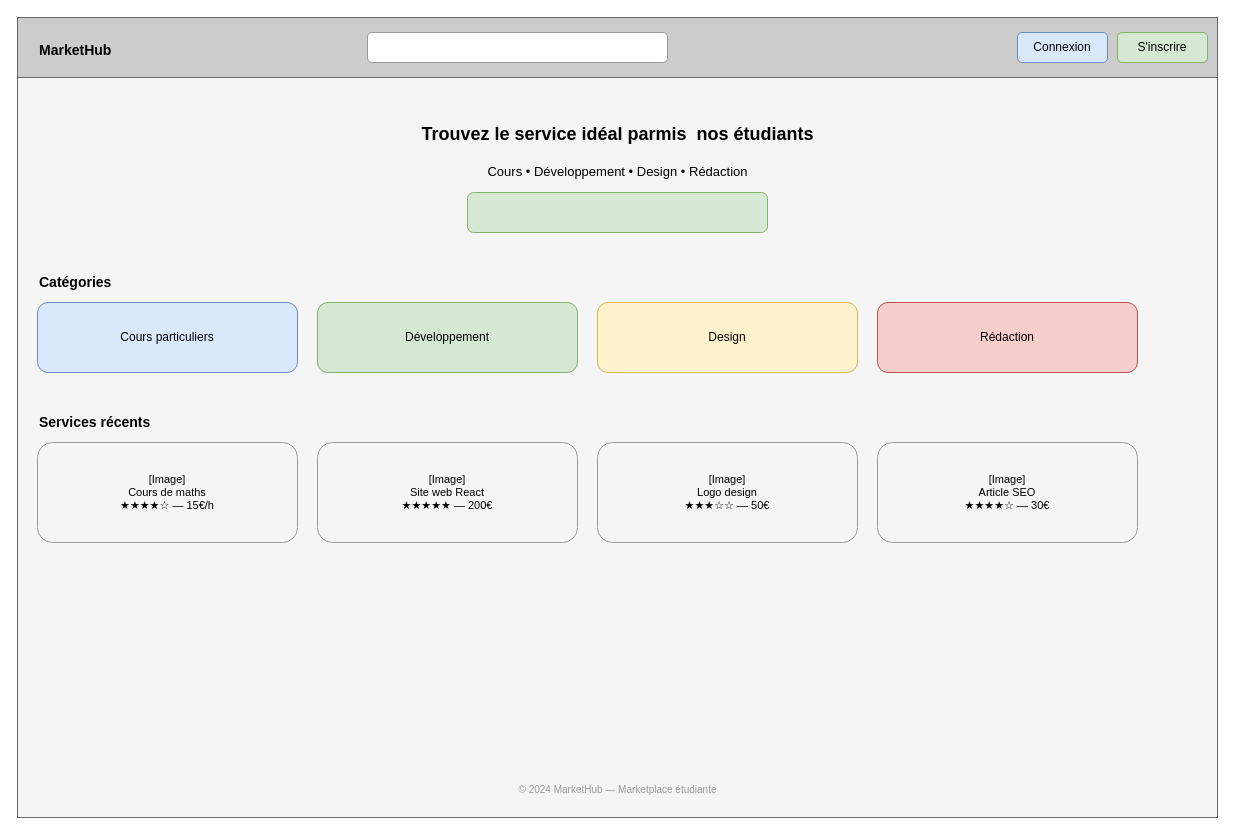
Image size: 1235x835. Some labels were removed from this diagram. Each missing label, with the box of its shape:
[ Rechercher un service... ]: (366, 32, 668, 62)
Parcourir les services: (466, 192, 768, 232)
